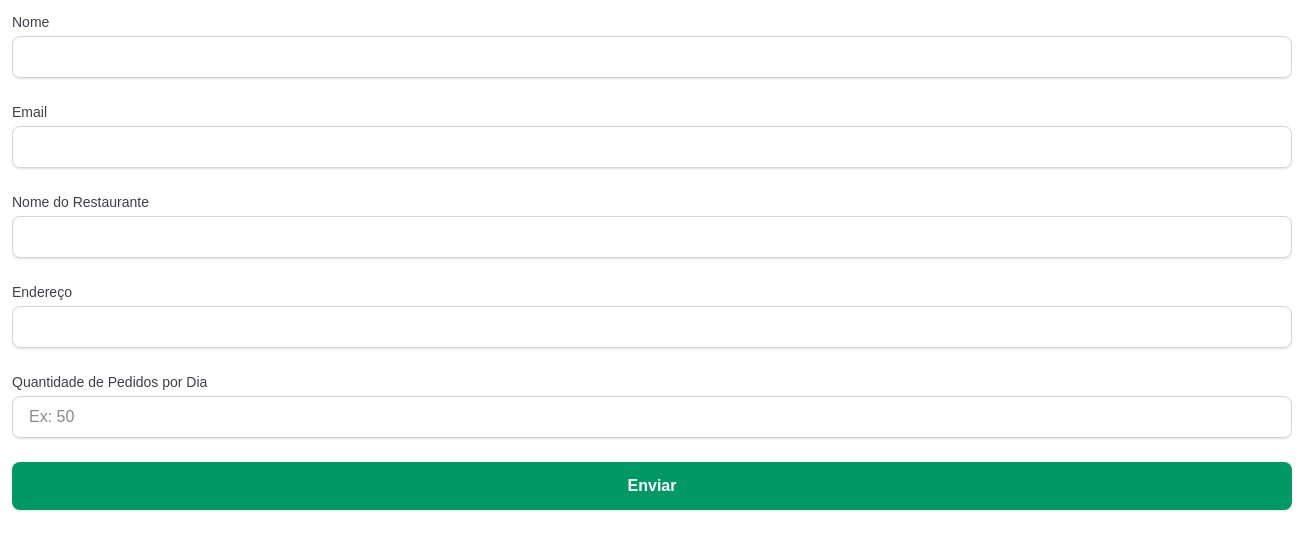
Scenario: ContactForm › shows error on invalid email format
Type "João Silva" into the field labelled "Nome" at (652, 57), box x1=12 y1=36 x2=1292 y2=78
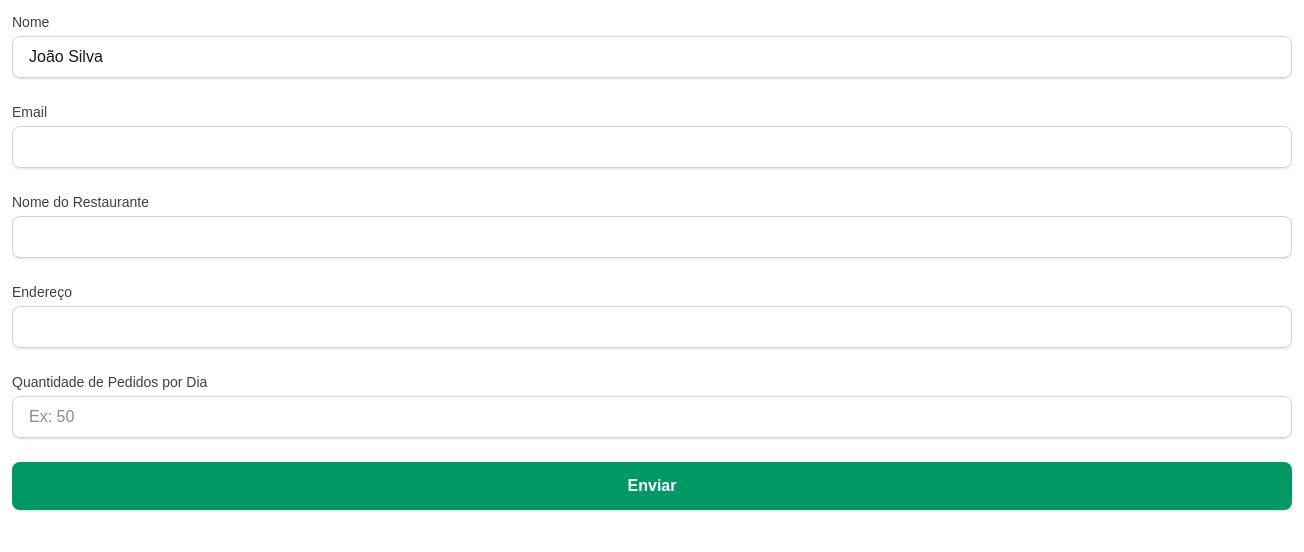
Type "invalid-email" into the field labelled "Email" at (652, 147), box x1=12 y1=126 x2=1292 y2=168
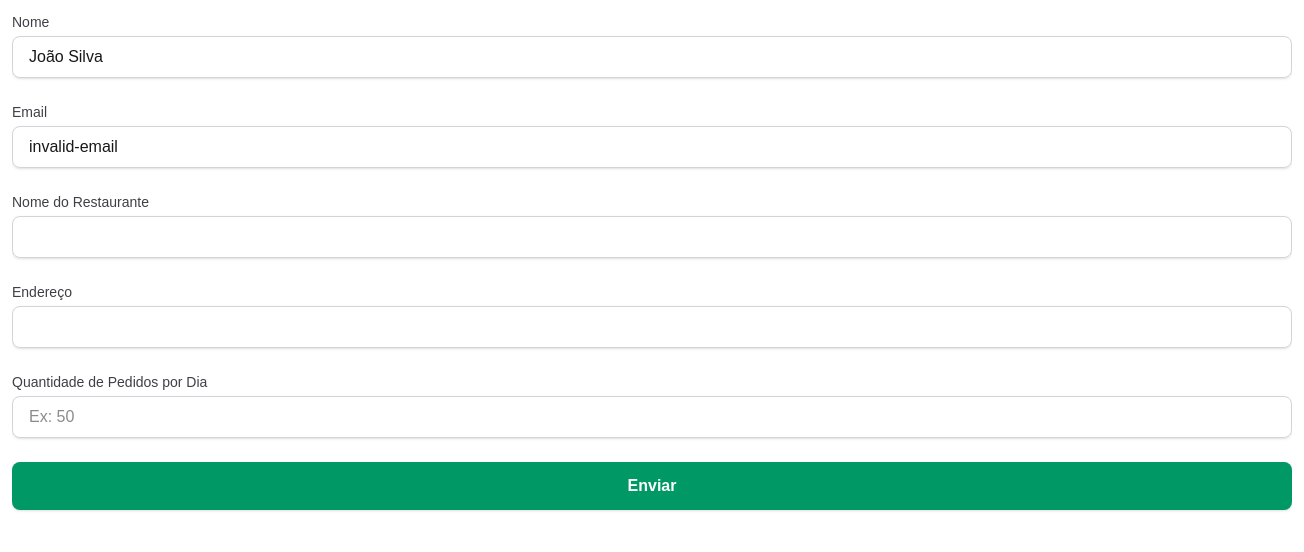
Type "Pizzaria do João" into the field labelled "Nome do Restaurante" at (652, 237), box x1=12 y1=216 x2=1292 y2=258
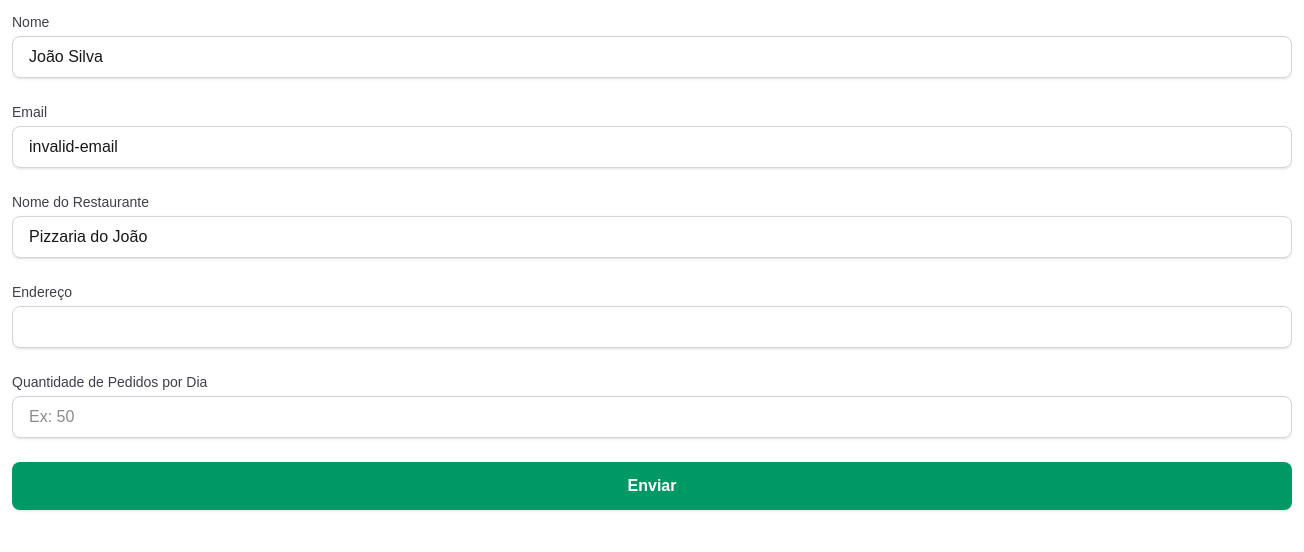
Type "Rua A, 123" into the field labelled "Endereço" at (652, 327), box x1=12 y1=306 x2=1292 y2=348
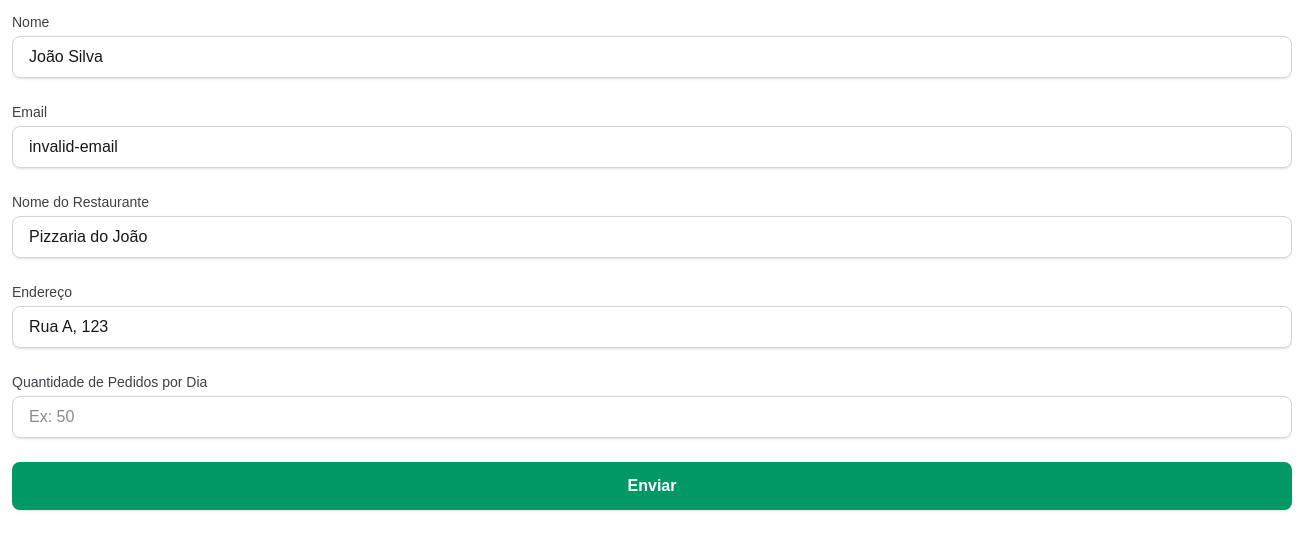
Type "50" into the field labelled "Quantidade de Pedidos por Dia" at (652, 417), box x1=12 y1=396 x2=1292 y2=438
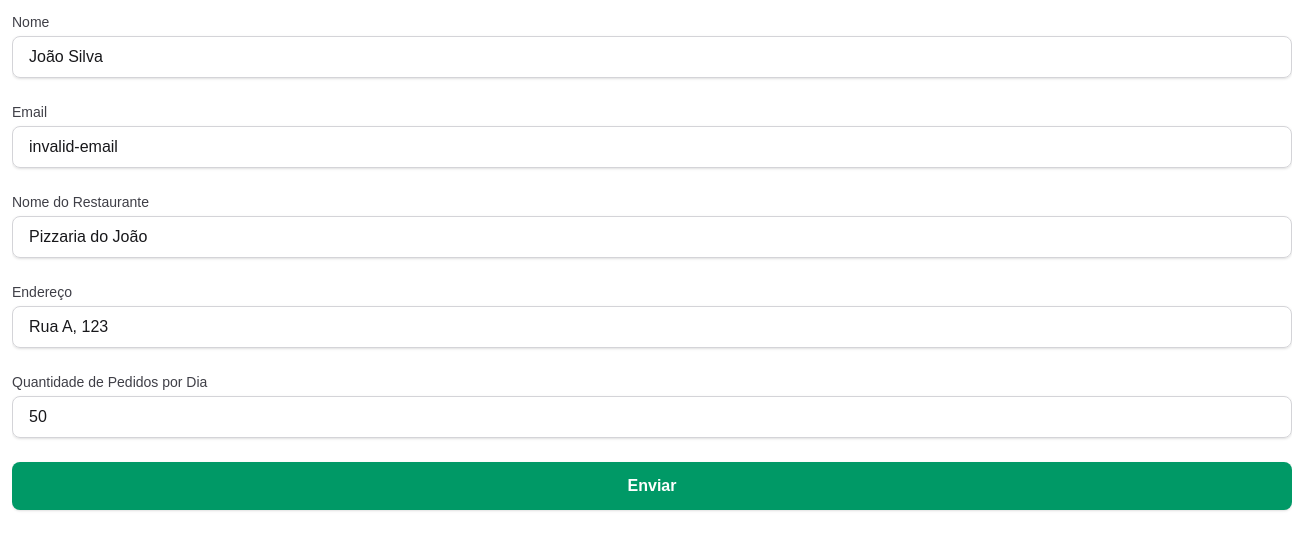
Click the button "Enviar" at (652, 486), box x1=12 y1=462 x2=1292 y2=510
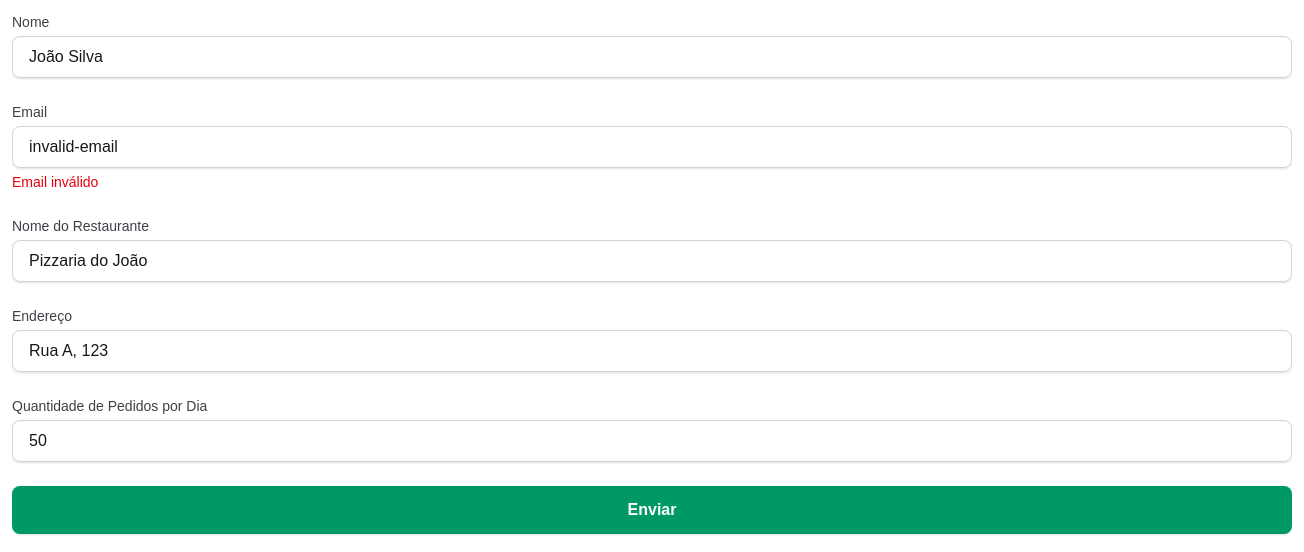
Result: the text "Email inválido" is shown at x1=12 y1=174 x2=98 y2=190
